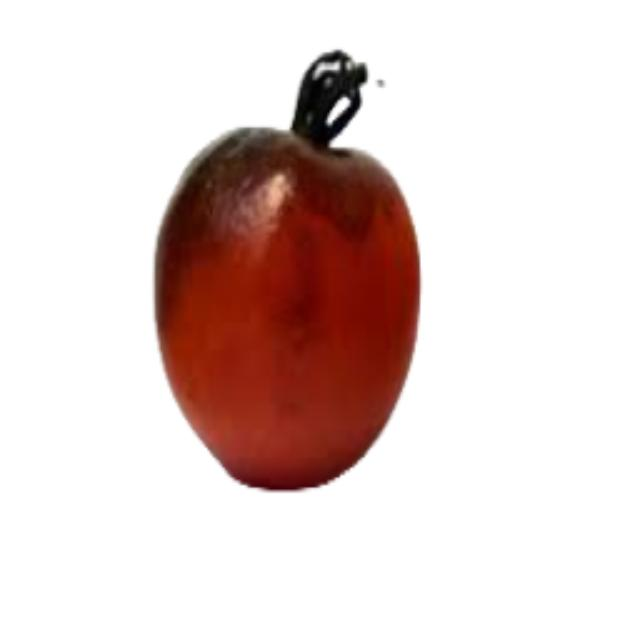defect: (146, 54, 424, 493)
